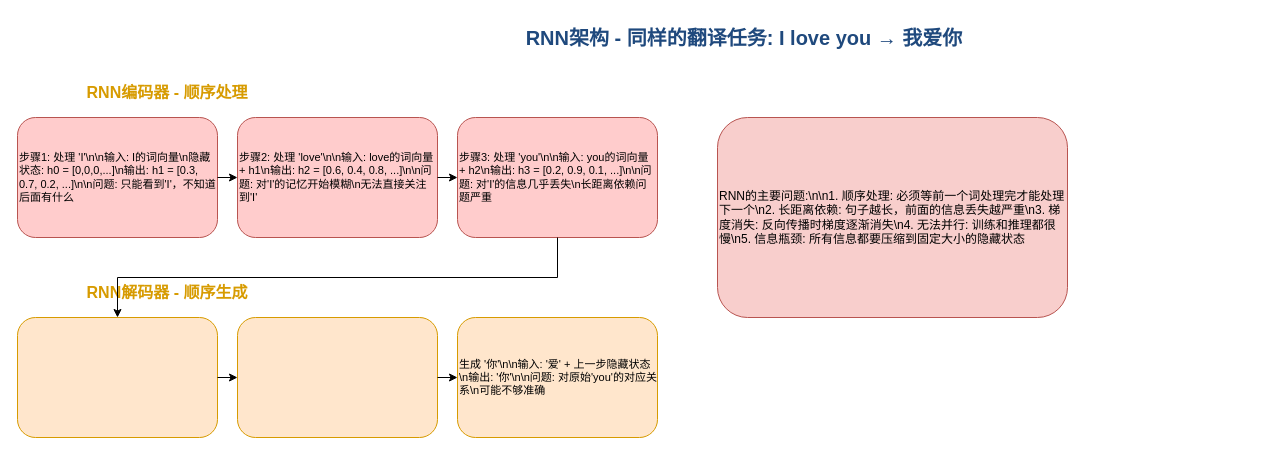
Image size: 1262x455. Some labels were removed from this diagram. The shapes that lost their labels are listed below. From the top down, each one's centre as x and y in pixels, then its label:
At point (117, 377): "生成 '我'\n\n输入: [START] + h3\n输出: '我' + 新隐藏状态\n\n问题: 只能依赖最后的隐藏状态h3\n可能丢失了'I'的重要信息".
At point (337, 377): "生成 '爱'\n\n输入: '我' + 上一步隐藏状态\n输出: '爱' + 新隐藏状态\n\n问题: 无法直接关注到'love'\n依赖链式传递的信息".
